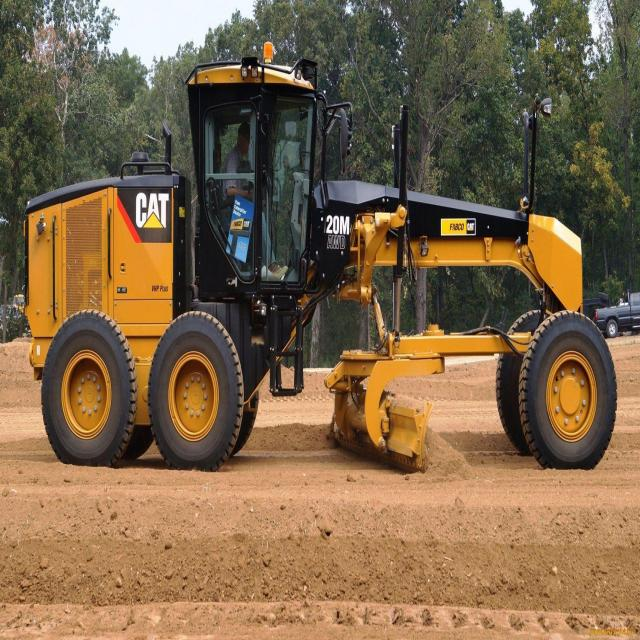Grader: (15, 43, 618, 475)
